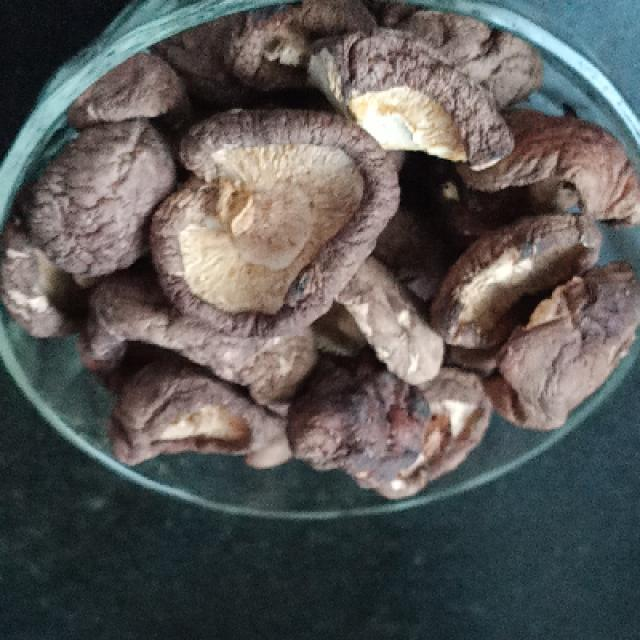Lentinus edodes: (153, 110, 393, 333), (305, 37, 516, 164), (441, 204, 591, 363), (22, 128, 176, 270), (507, 266, 640, 426), (105, 380, 292, 466)
